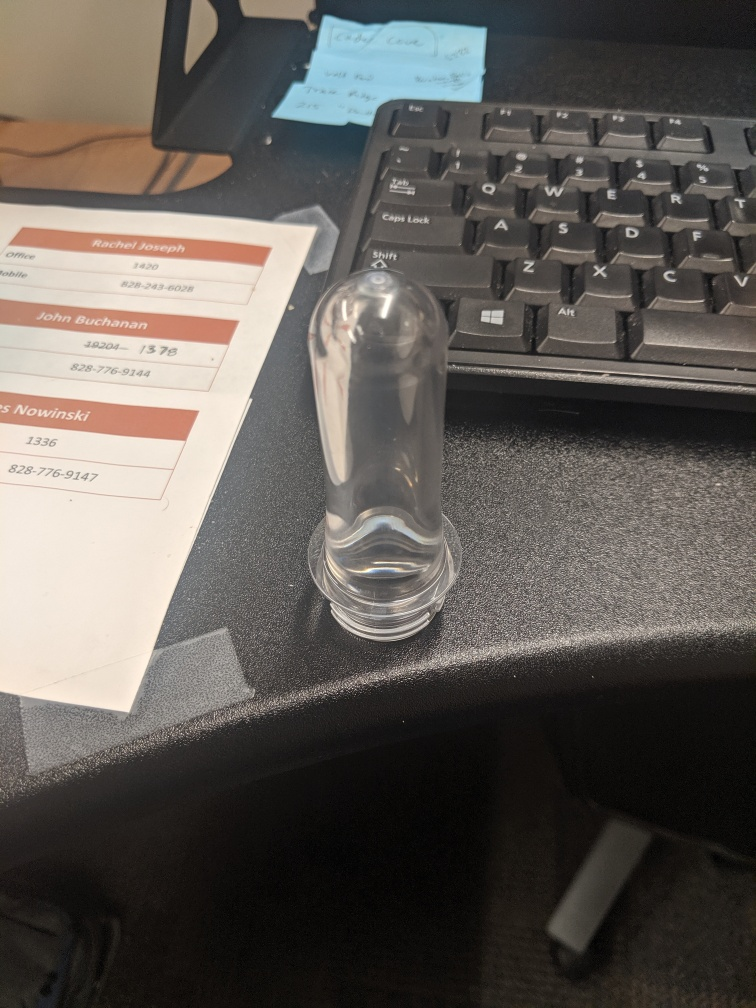preform: (298, 262, 469, 646)
